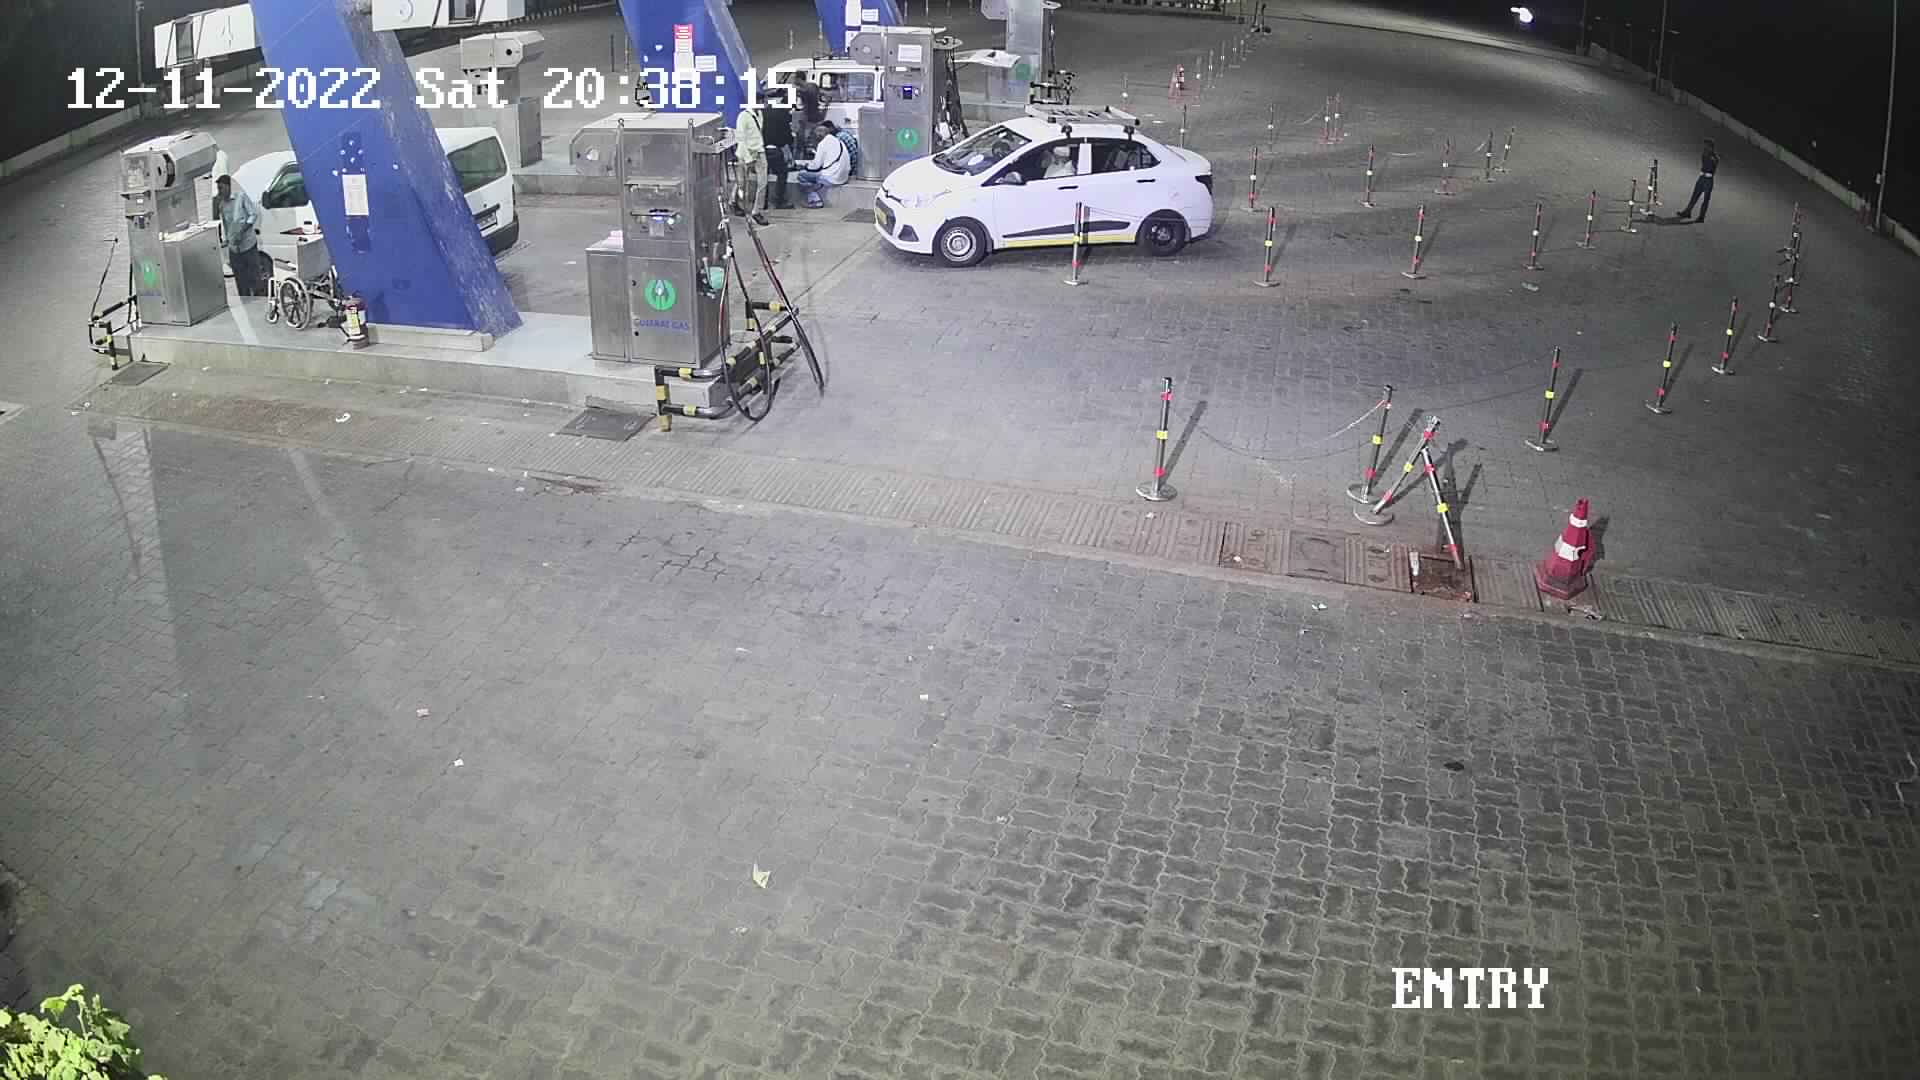Car: (868, 100, 1217, 274), (754, 44, 887, 182), (425, 116, 525, 272)
